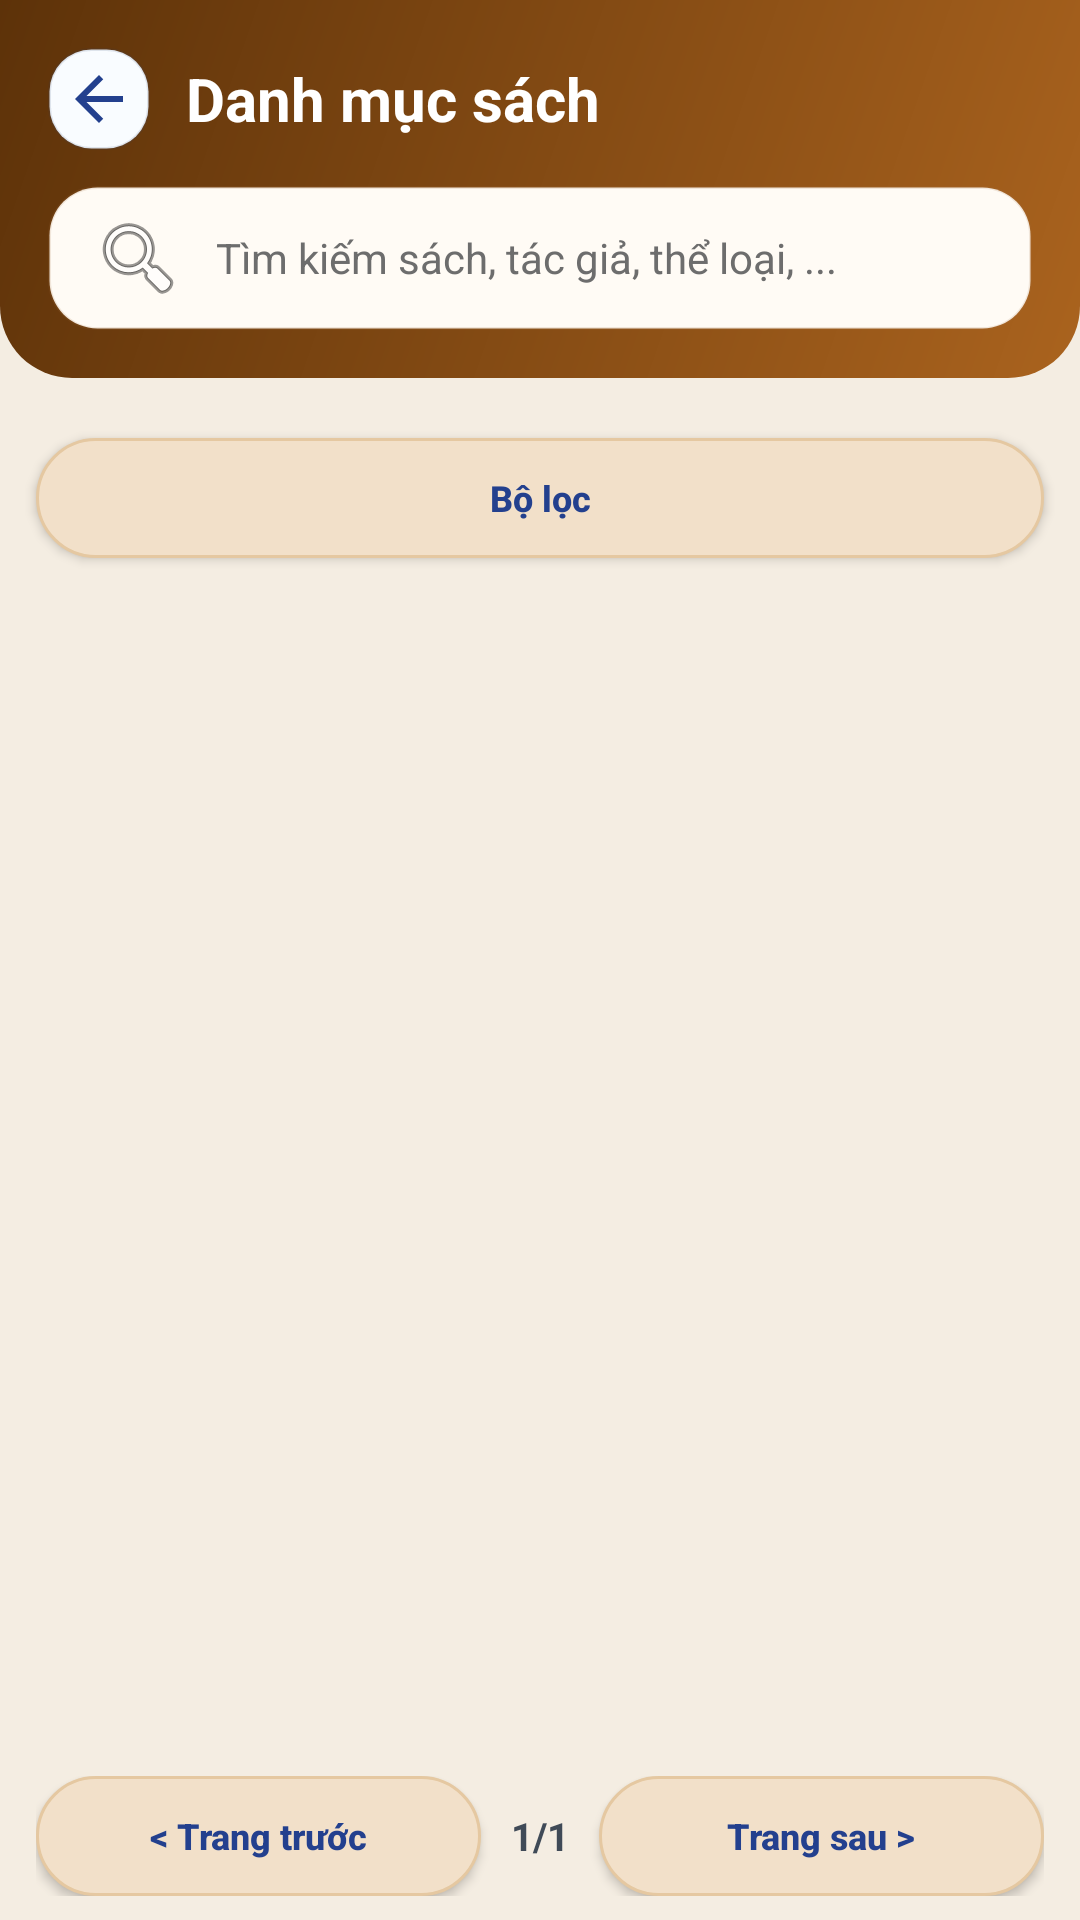

Screen size 1080px×1920px. Icon name, then its box in pixels as [x1, y1, x2, y2]:
Quay lại: [49, 49, 149, 149]
